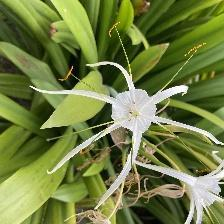spider lily: (29, 61, 224, 210)
